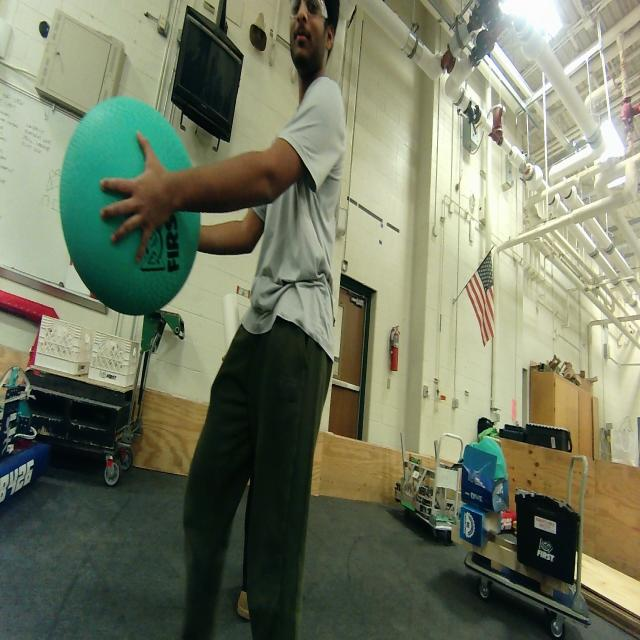algae: (56, 89, 203, 322)
coral: (219, 281, 246, 361)
